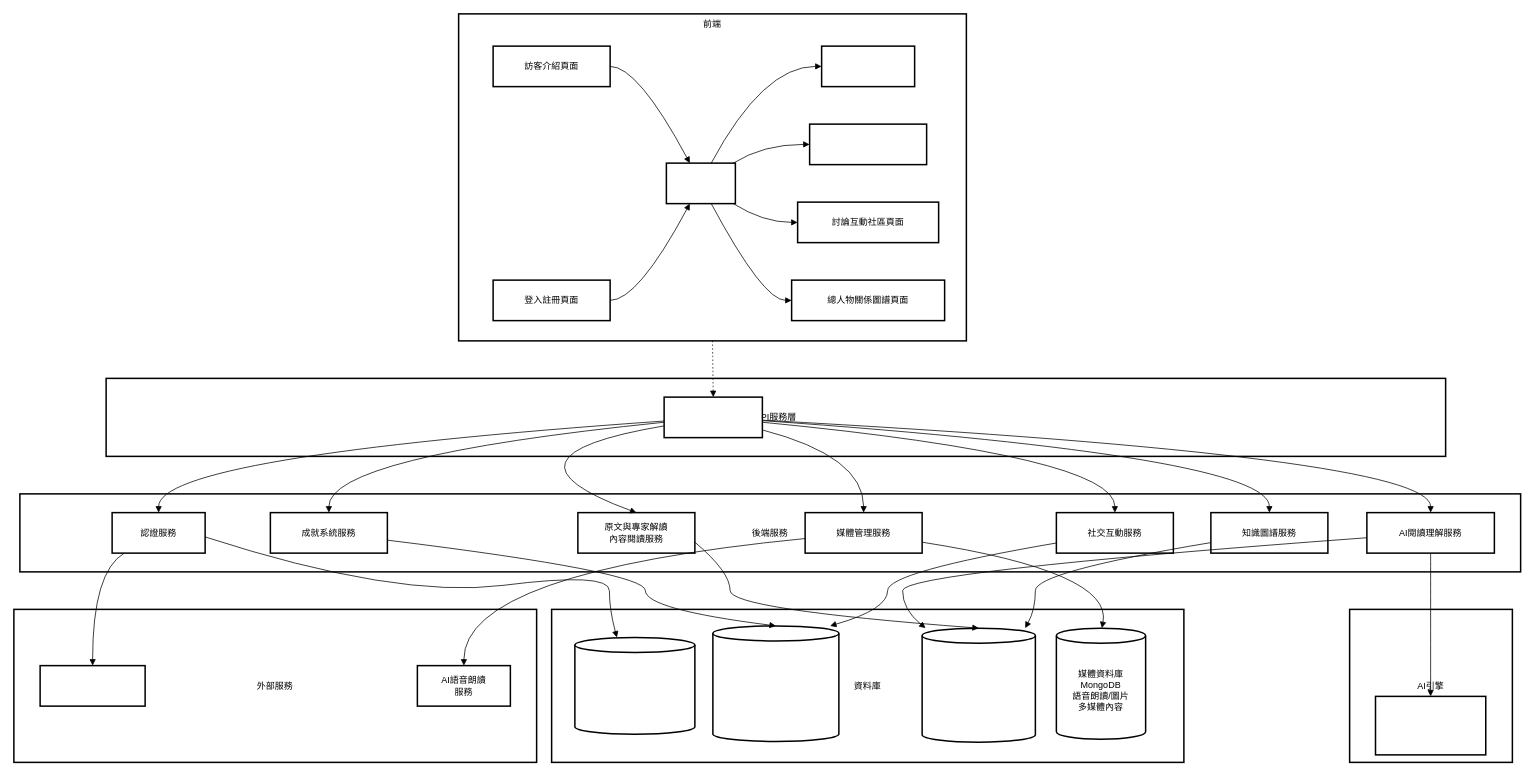
Image size: 1534x776. Some labels were removed from this diagram. Each missing label, with the centre of its shape:
"API閘道器" belongs at (713,417).
"LLM引擎 GPT/Claude" belongs at (1430,725).
"成就系統頁面" belongs at (867,144).
"用戶內容資料庫 PostgreSQL 進度/筆記/討論/成就" belongs at (775,683).
"用戶基本資料庫 PostgreSQL 用戶資料/權限/設定" belongs at (634,685).
"第三方登入" belongs at (92,685).
"紅學知識庫 Neo4j 人物關係/背景知識 /學術資料/紅樓夢原文/專家解讀" belongs at (978,684).
"閱讀頁面" belongs at (867,66).
"首頁" belongs at (700,183).
